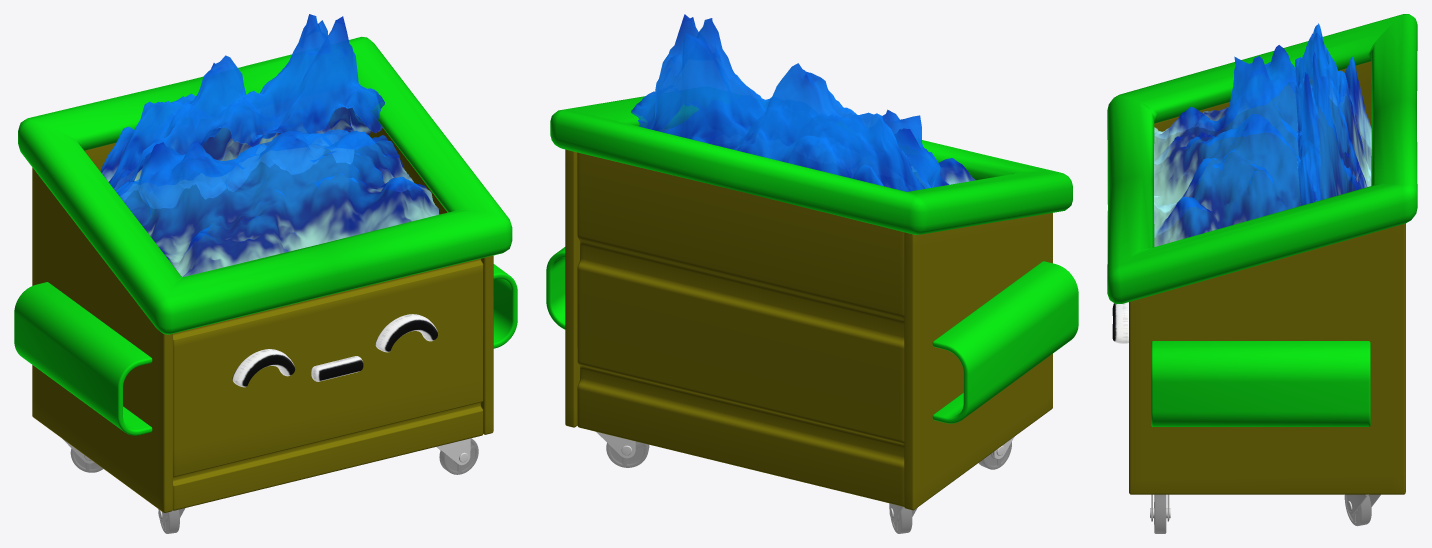
3 renders of one model, left to right at view 1: azimuth 30°, elevation 25°; view 2: azimuth 150°, elevation 25°; view 3: azimuth 270°, elevation 25°, orthographic. The views are drawn at different scales.
Visible parts, largest first — view 1: Dumpster Geometry, Small Fire.003, Fire Small Back.003, Wheel Holder; view 2: Dumpster Geometry, Fire Small Back.003, Small Fire.003, Wheel Holder; view 3: Dumpster Geometry, Small Fire.003, Fire Small Back.003, Wheel Holder.
Boxes of the visible parts, bbox=[...] form: Dumpster Geometry: bbox=[14, 36, 517, 533]; Small Fire.003: bbox=[115, 129, 439, 276]; Fire Small Back.003: bbox=[100, 14, 384, 208]; Wheel Holder: bbox=[63, 438, 470, 522]; Dumpster Geometry: bbox=[546, 96, 1078, 533]; Fire Small Back.003: bbox=[631, 14, 925, 191]; Small Fire.003: bbox=[662, 109, 975, 190]; Wheel Holder: bbox=[596, 432, 1014, 521]; Dumpster Geometry: bbox=[1107, 14, 1417, 533]; Small Fire.003: bbox=[1154, 45, 1320, 246]; Fire Small Back.003: bbox=[1294, 23, 1371, 205]; Wheel Holder: bbox=[1150, 494, 1380, 521].
Bounding box in the file's own units: 2.3 × 2.33 × 1.48.
Materials: 7 (3 with a texture image).
